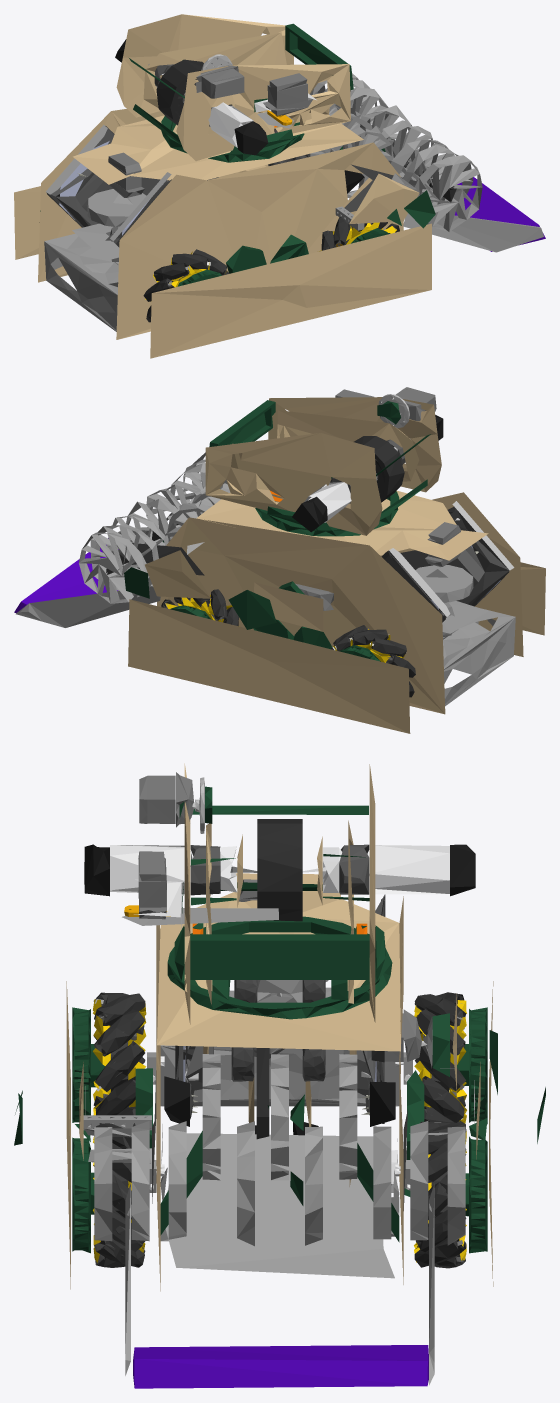
The model's file is uran-v2-low.glb.
The picture shows the model from 3 angles, top to bottom: view 1: azimuth 30°, elevation 25°; view 2: azimuth 150°, elevation 25°; view 3: azimuth 270°, elevation 25°; orthographic projection. The views are drawn at different scales.
Parts seen in each view (by area): view 1: body, turret, intake_front, arm, wheel_br, flywheel, wheel_fr, intake_back; view 2: body, turret, intake_front, arm, wheel_bl, flywheel, wheel_fl, intake_back; view 3: body, turret, intake_front, arm, wheel_br, intake_back, wheel_bl, wheel_fr, wheel_fl, flywheel, transfer_front, transfer_back.
Boxes of the visible parts, x1,y1,x2,y2 form: body: (14, 108, 435, 358); turret: (115, 14, 353, 162); intake_front: (310, 73, 482, 231); arm: (403, 156, 545, 252); wheel_br: (143, 249, 229, 322); flywheel: (156, 59, 203, 125); wheel_fr: (319, 206, 399, 251); intake_back: (310, 91, 393, 198); body: (124, 490, 545, 733); turret: (205, 387, 443, 536); intake_front: (79, 452, 227, 603); arm: (14, 530, 160, 627); wheel_bl: (331, 625, 415, 697); flywheel: (354, 436, 404, 502); wheel_fl: (161, 589, 238, 626); intake_back: (165, 479, 230, 541); body: (14, 873, 545, 1291); turret: (84, 763, 475, 1024); intake_front: (94, 1121, 465, 1246); arm: (125, 1183, 434, 1388); wheel_br: (72, 992, 164, 1122); intake_back: (202, 1054, 357, 1180); wheel_bl: (395, 992, 487, 1129); wheel_fr: (72, 1115, 164, 1267); wheel_fl: (395, 1121, 487, 1268); flywheel: (257, 819, 302, 921); transfer_front: (231, 1047, 325, 1081); transfer_back: (234, 980, 325, 1002).
Bounding box in the file's own units: 0.5332 × 0.3049 × 0.374.
